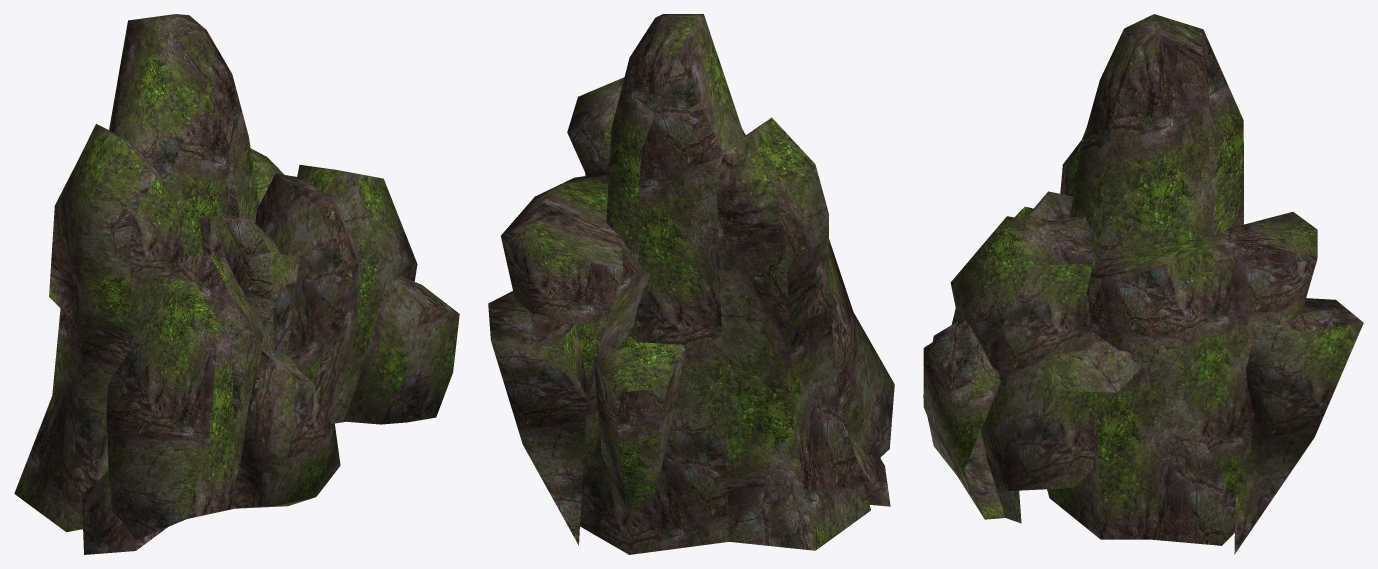
Rendered from S_Rock_Green032.FBX.
3 views of the same model, side by side, from view 1: azimuth 30°, elevation 25°; view 2: azimuth 150°, elevation 25°; view 3: azimuth 270°, elevation 25° (orthographic). The views are drawn at different scales.
Visible parts, largest first — view 1: S_Rock_Green032; view 2: S_Rock_Green032; view 3: S_Rock_Green032.
Boxes of the visible parts, <box> form: S_Rock_Green032: <box>14,14,459,554</box>; S_Rock_Green032: <box>488,14,894,554</box>; S_Rock_Green032: <box>923,14,1363,554</box>.
Bounding box in the file's own units: 354 × 384 × 485.
